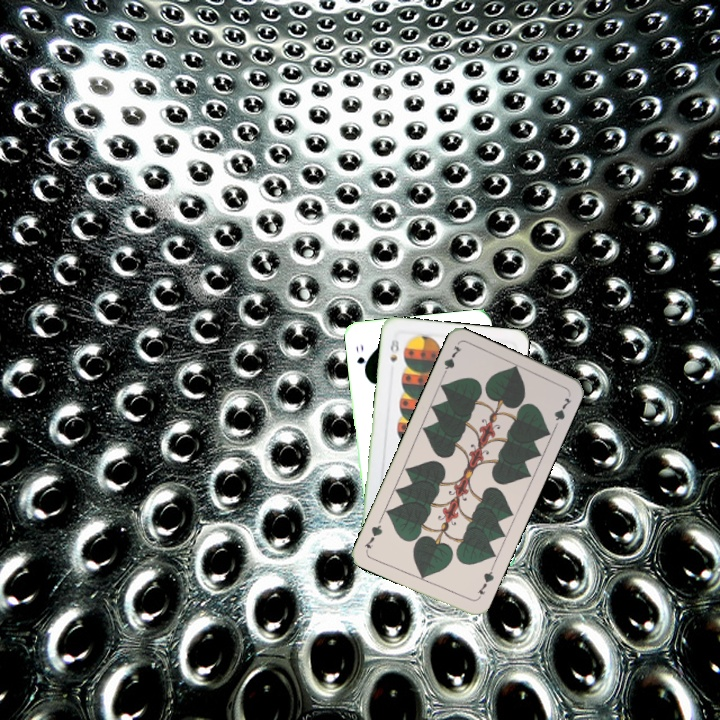G7: (438, 341, 464, 380), (473, 563, 497, 602)
GO: (352, 340, 370, 376)
S8: (386, 334, 402, 365)
